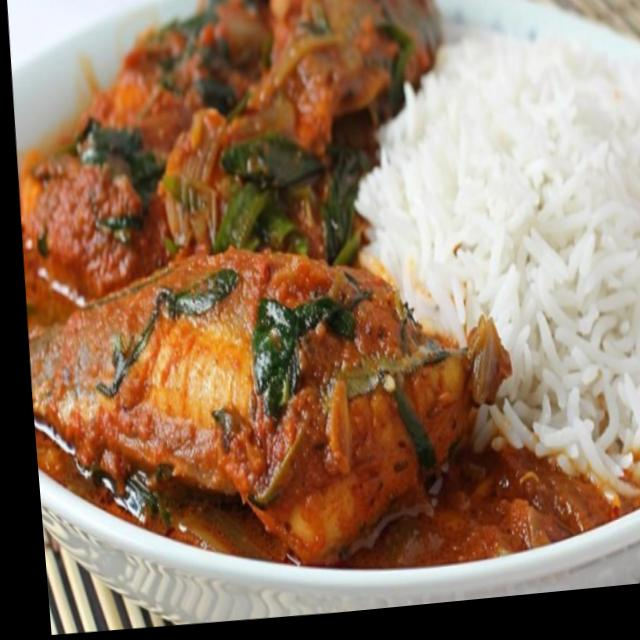FISH CURRY: (18, 0, 617, 565)
RICE: (355, 32, 640, 489)
